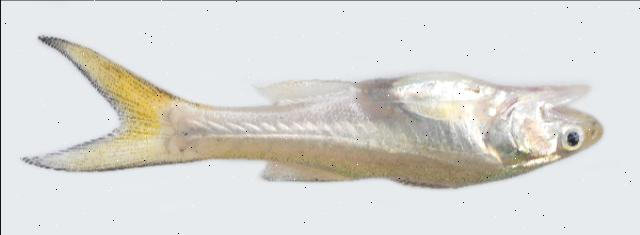Mulut: (538, 67, 616, 159)
Sirip Anal: (242, 65, 362, 113)
Sirip Ekor: (10, 23, 196, 183)
Sirip Punggung: (250, 154, 450, 198)
